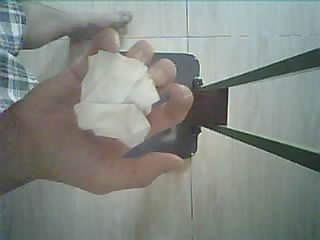paper: (75, 51, 159, 148)
